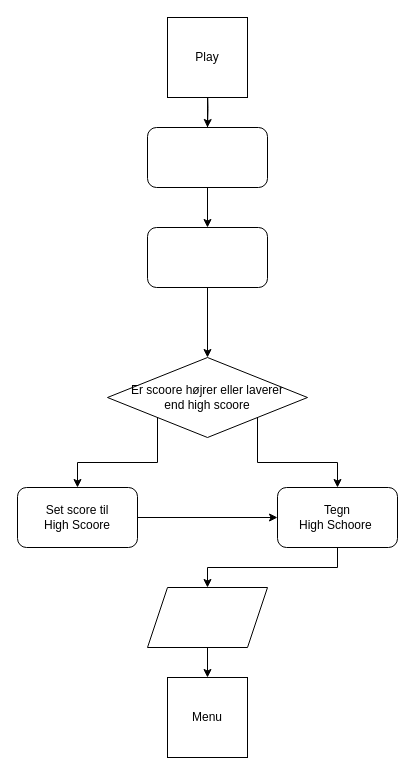
The diagram is 415 pixels wide and 775 high, and some of its shapes have lost their labels. Each missing label, with the centre of its shape:
Push any botton: the point at 207,617
Tegn End Game skærm: the point at 207,157
Tegn Scoore: the point at 207,257
